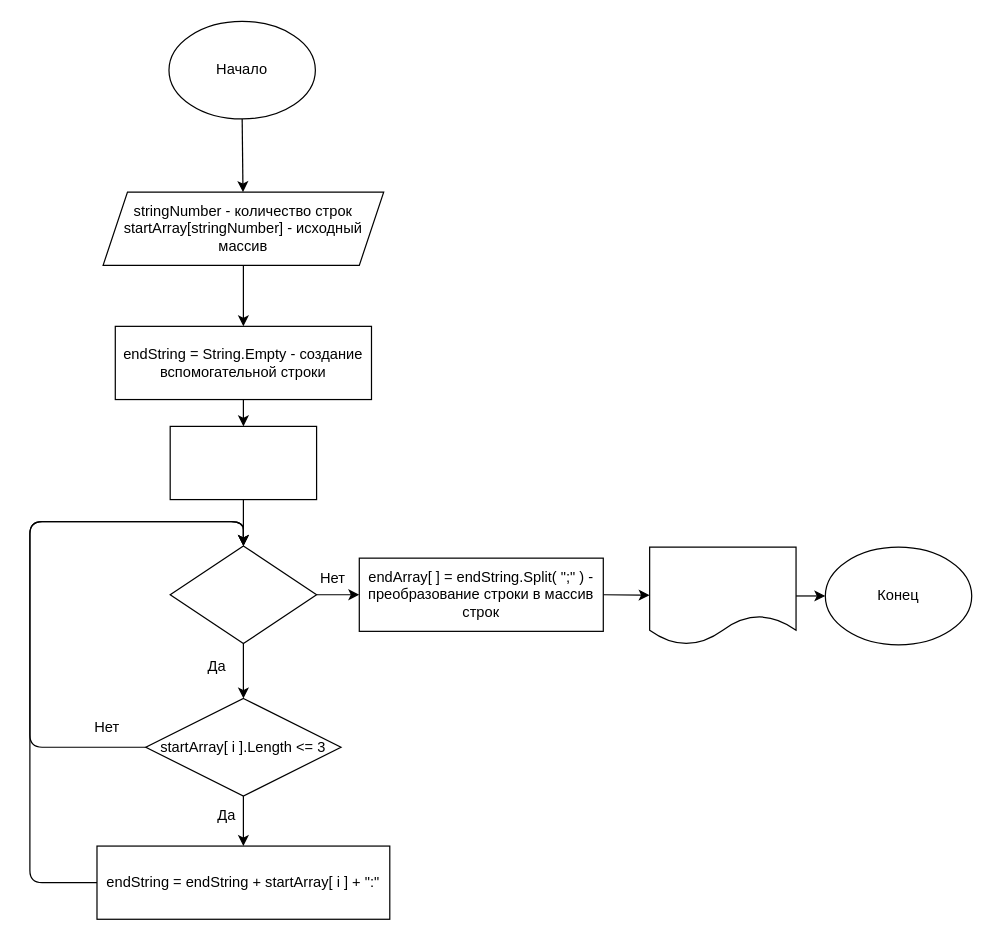
The diagram is 993 pixels wide and 941 high, and some of its shapes have lost their labels. The box of each missing label's shape, as (x1, y1, x2, y2) in pixels:
endArray: (648, 546, 796, 645)
i < stringNumber: (169, 545, 317, 644)
i = 0 переменная для счетчика: (169, 425, 317, 500)
